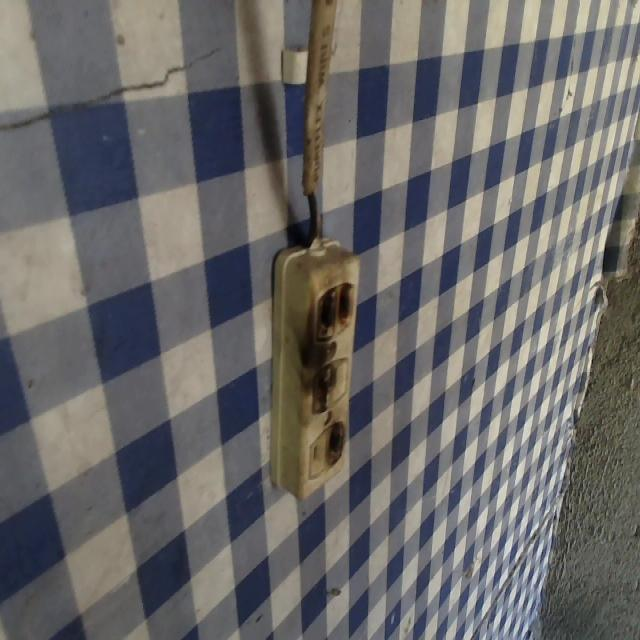-: (311, 276, 353, 339), (307, 356, 339, 413), (329, 417, 346, 471)
